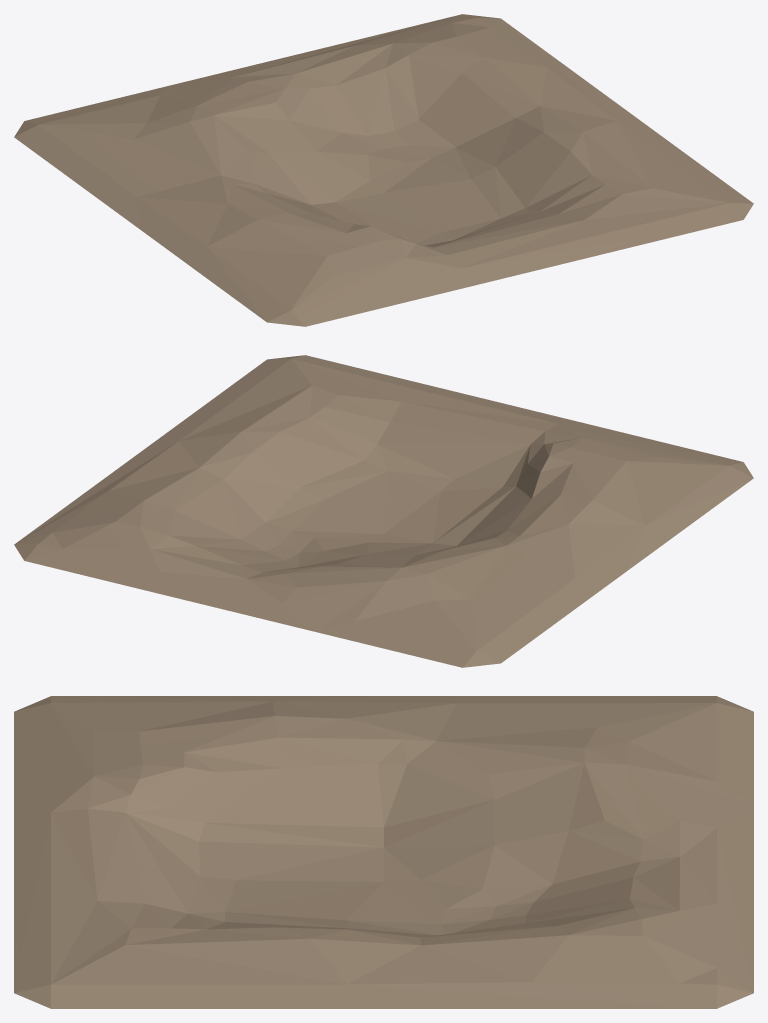
Rendered from SM_Env_Ground_Pit_01.glb.
The picture shows the model from 3 angles, top to bottom: view 1: azimuth 30°, elevation 25°; view 2: azimuth 150°, elevation 25°; view 3: azimuth 270°, elevation 25°; orthographic projection. The views are drawn at different scales.
Parts seen in each view (by area): view 1: SM_Env_Ground_Pit_01; view 2: SM_Env_Ground_Pit_01; view 3: SM_Env_Ground_Pit_01.
Part boxes in pixels (x1,y1,x2,y2): SM_Env_Ground_Pit_01: [14, 14, 753, 326]; SM_Env_Ground_Pit_01: [14, 355, 753, 667]; SM_Env_Ground_Pit_01: [14, 696, 753, 1008].
Size of the model in its own units: 0.1534 by 0.0135 by 0.1534.
1 material, 1 textured.
